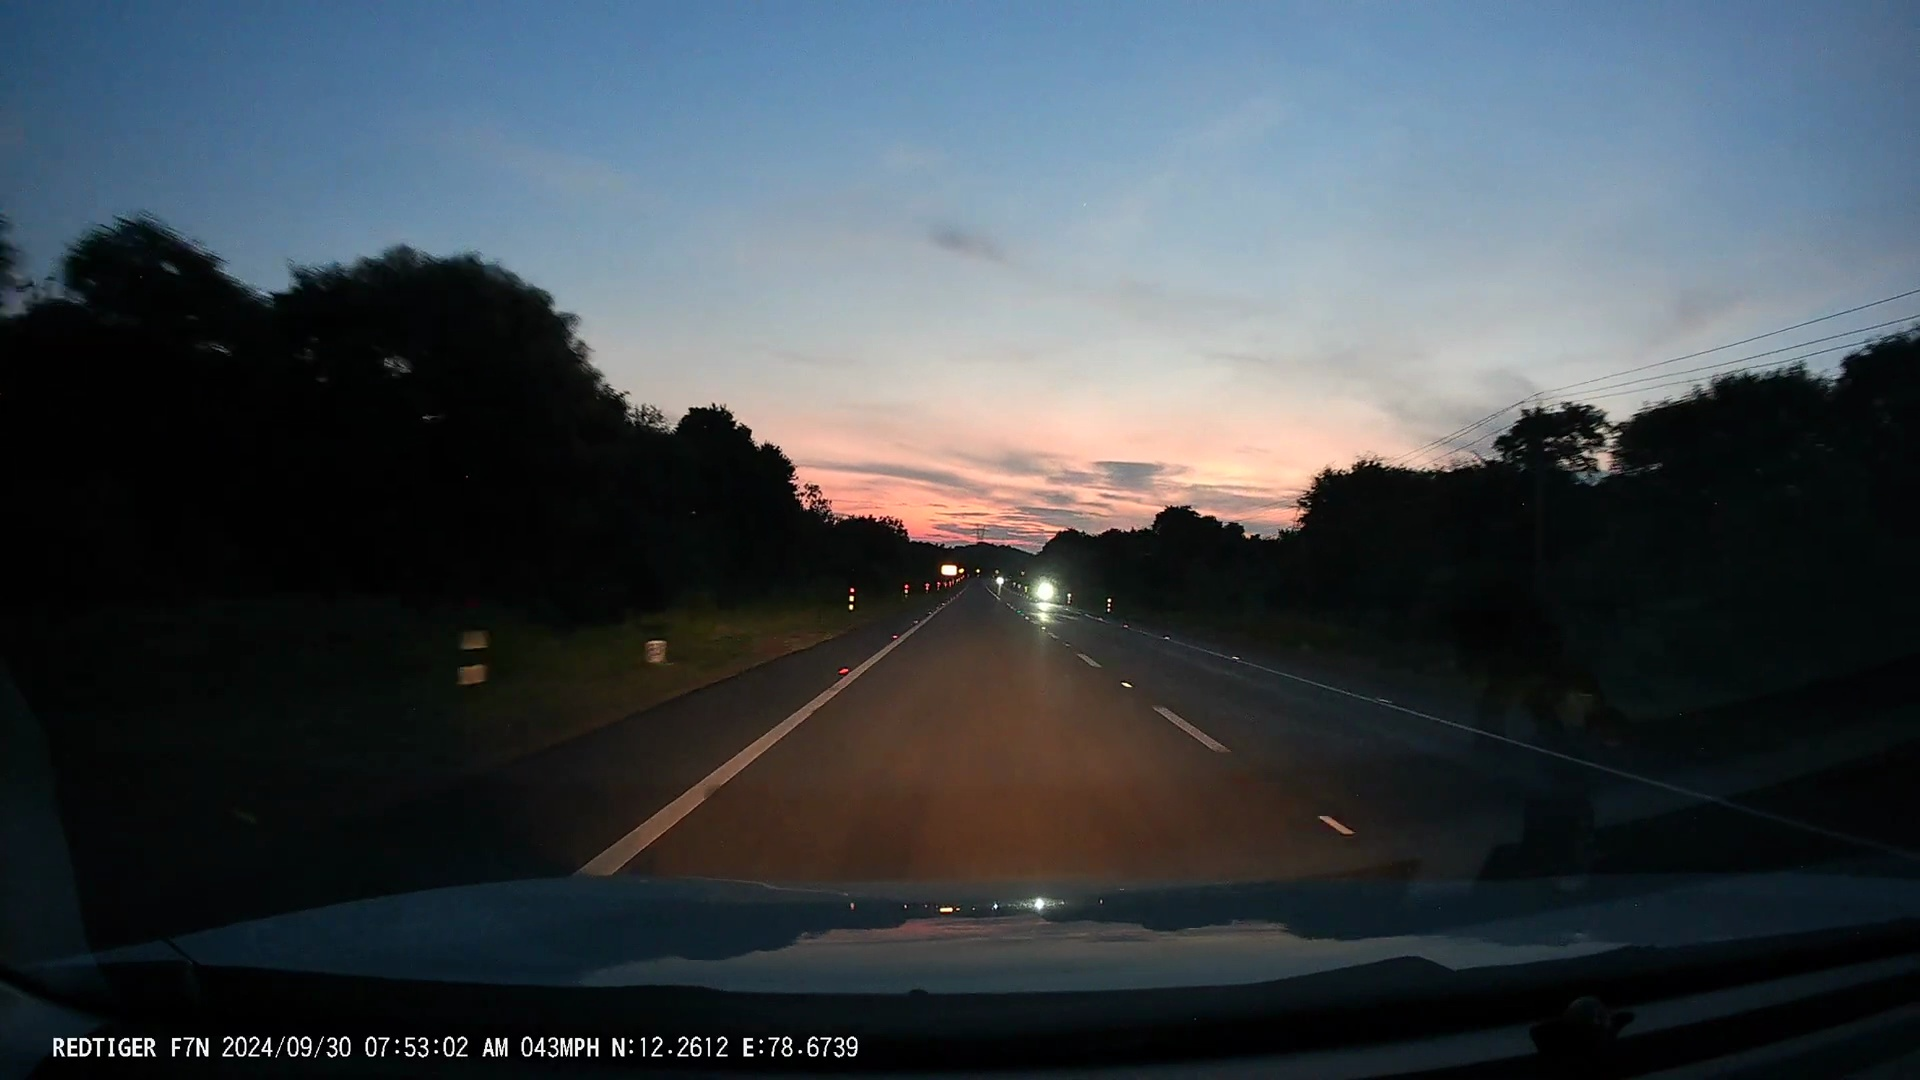headlight: (1036, 582, 1055, 600), (996, 578, 1006, 587)
two wheeler: (1038, 576, 1055, 607), (998, 578, 1004, 593)
